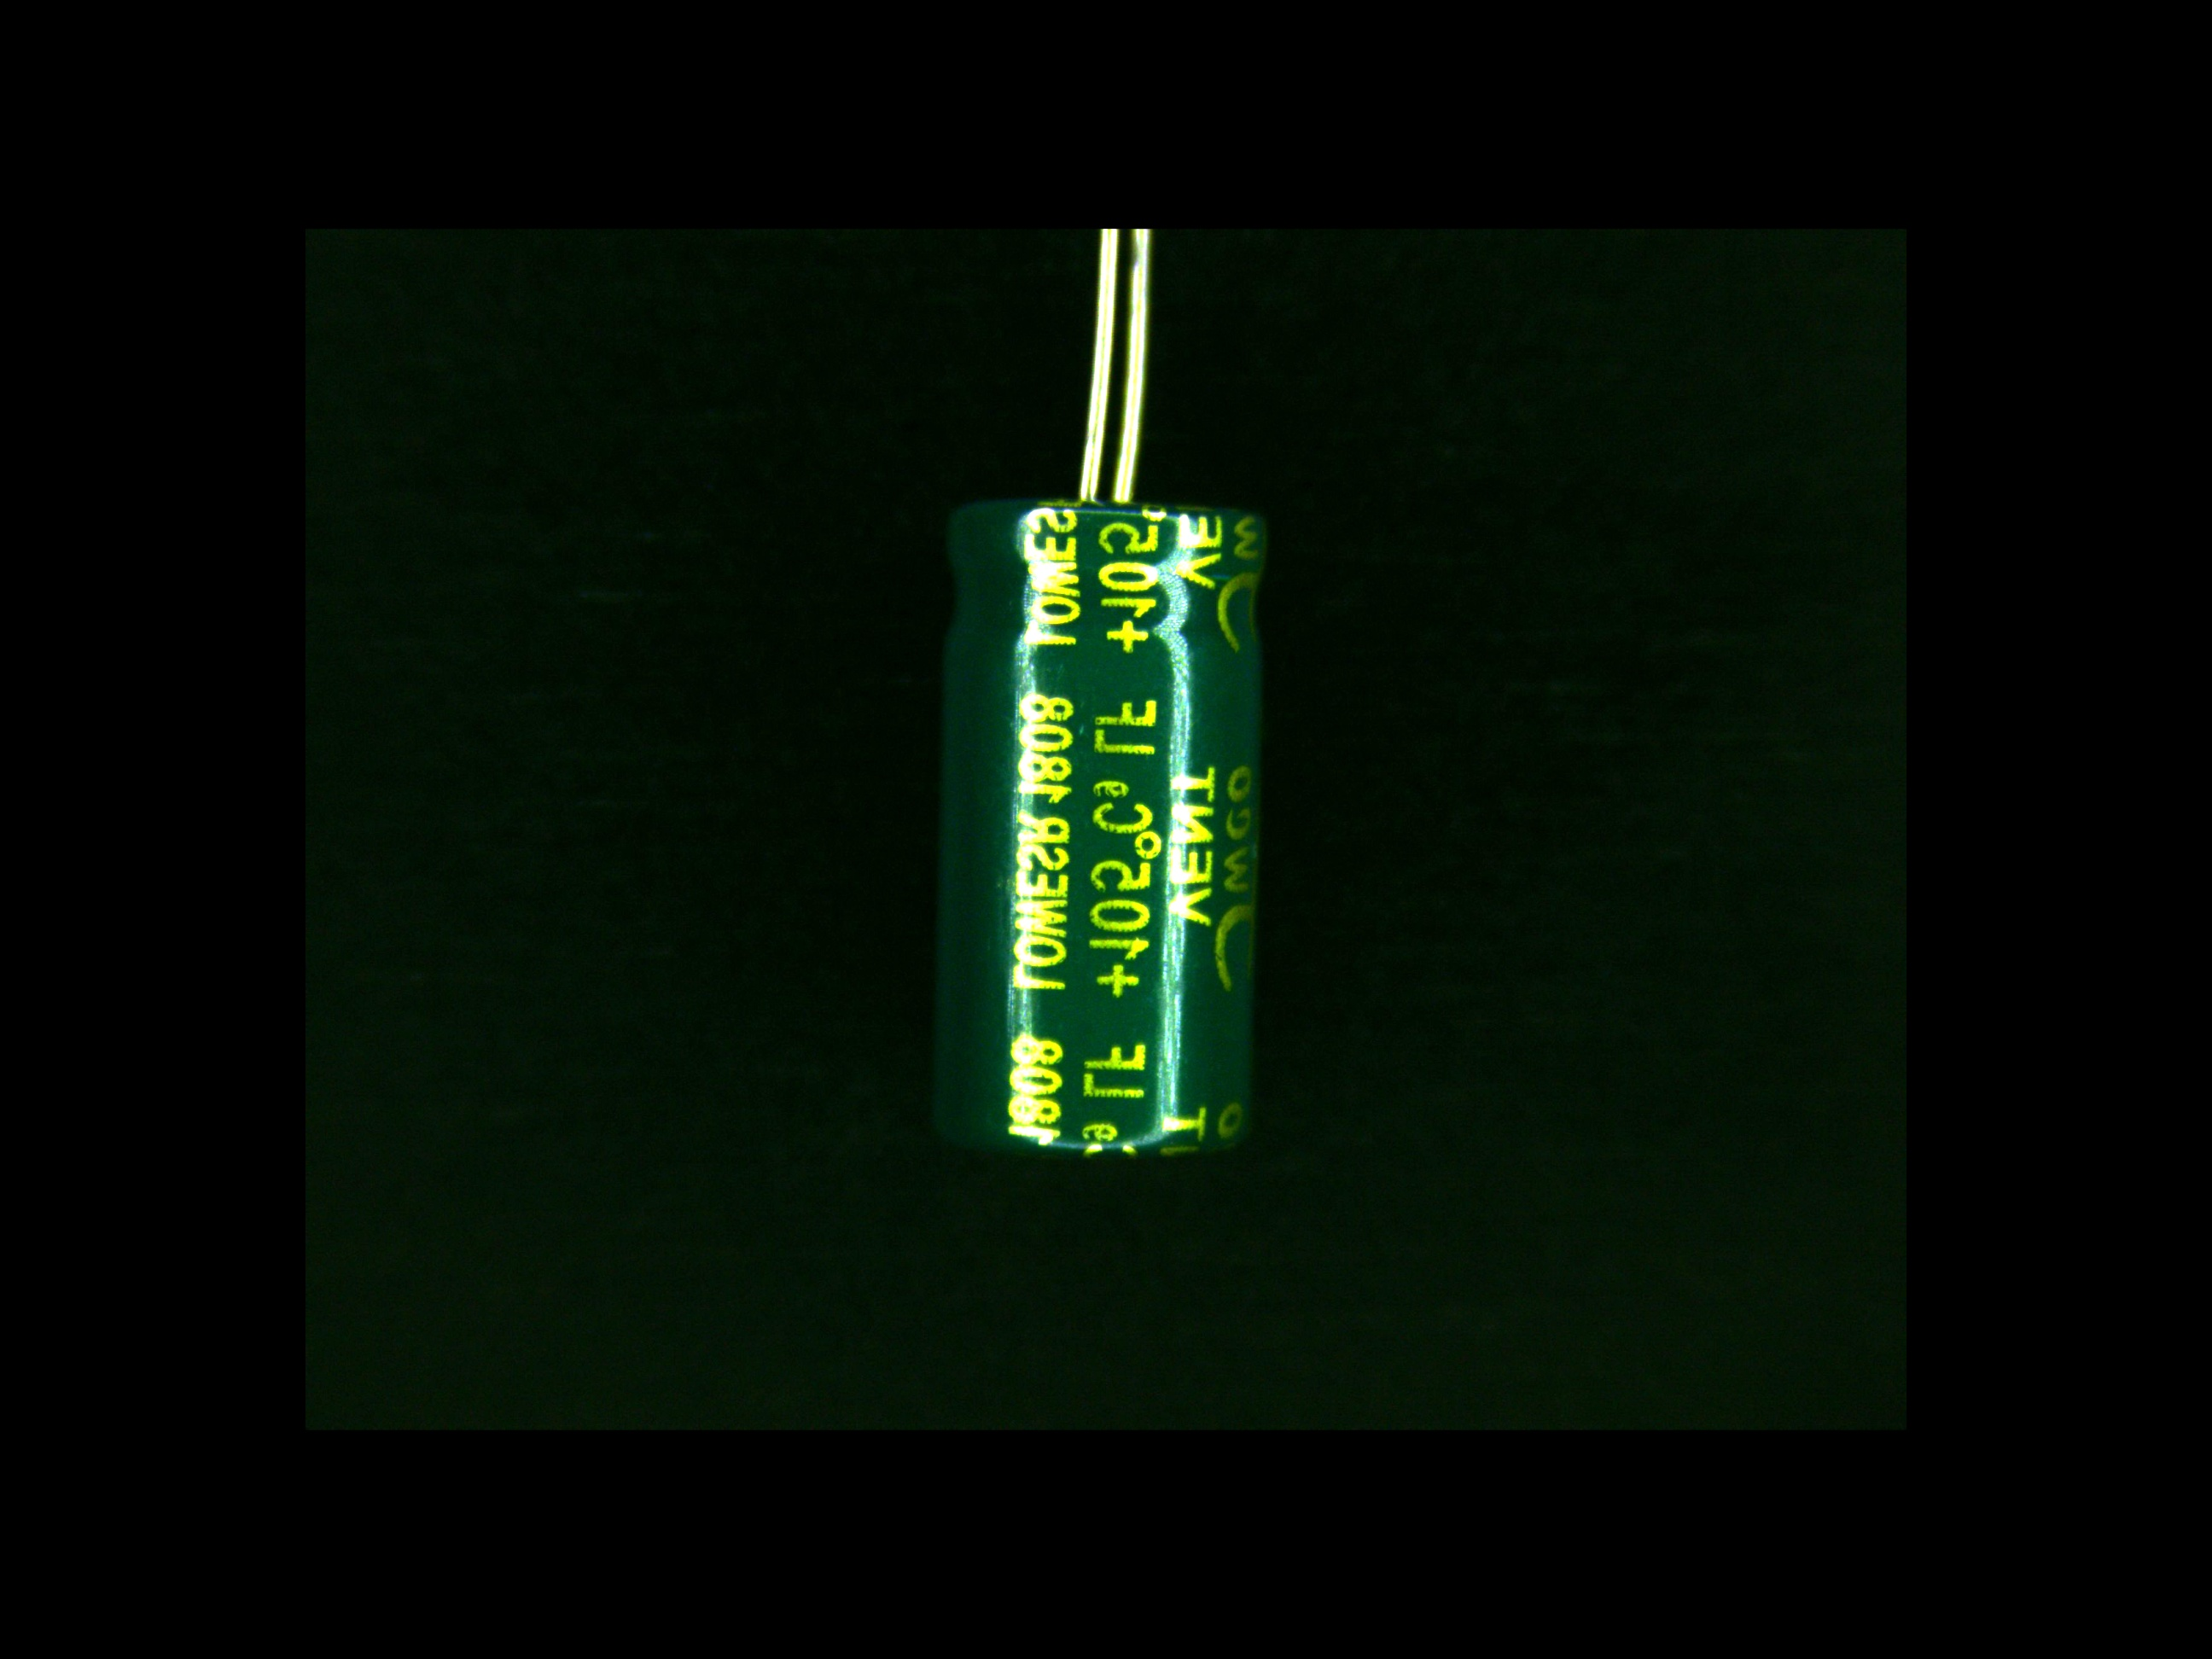c1: (932, 436, 1277, 1154)
